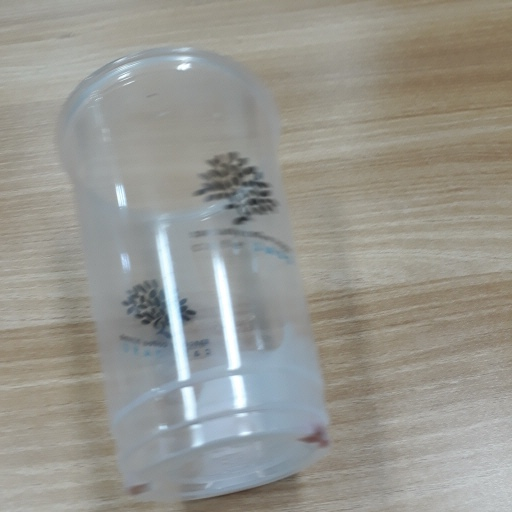Plastic_2: (49, 44, 336, 500)
